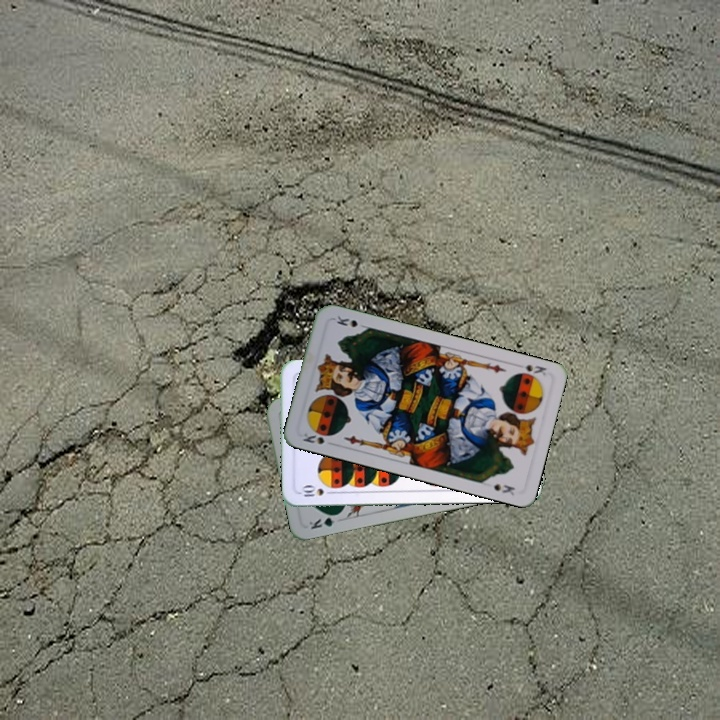GK: (305, 510, 343, 532)
S10: (296, 483, 337, 499)
SK: (511, 360, 549, 378), (299, 429, 327, 447)
